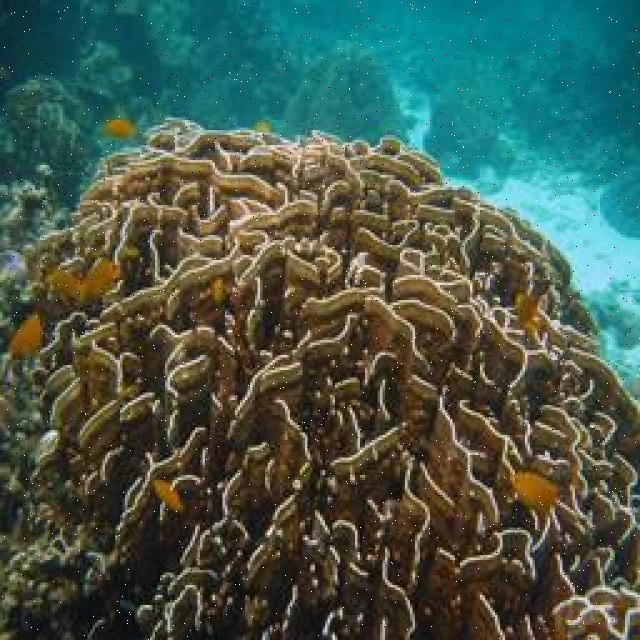reefs: (18, 116, 638, 638)
